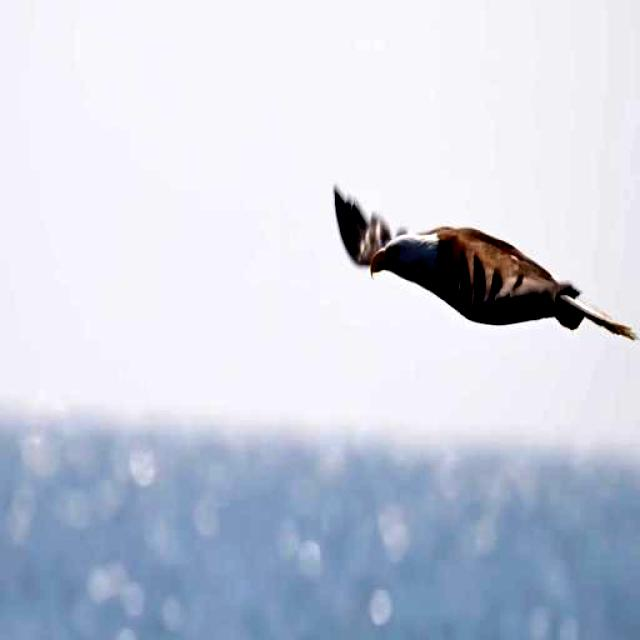airplane: (314, 166, 640, 374)
